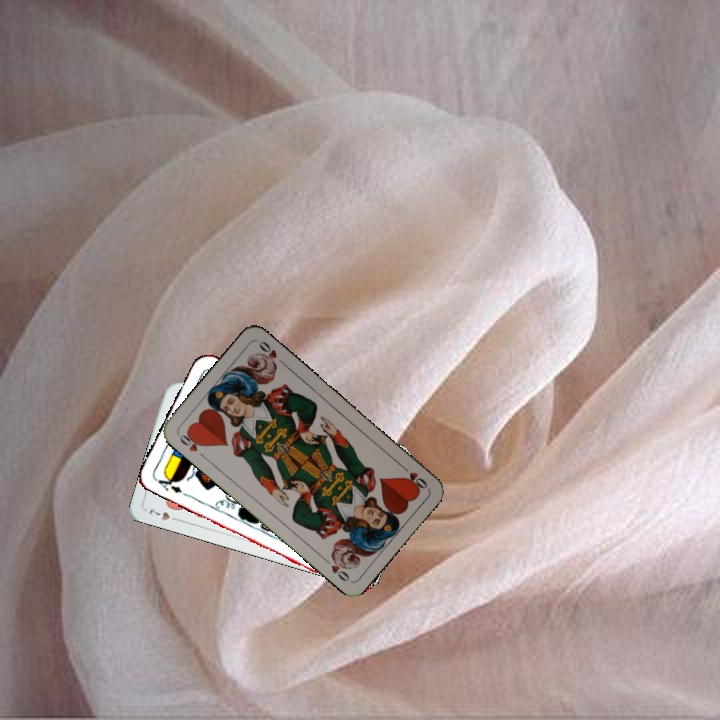EA: (151, 470, 185, 496)
H7: (145, 503, 183, 524)
HO: (174, 428, 208, 461), (397, 461, 430, 492)
